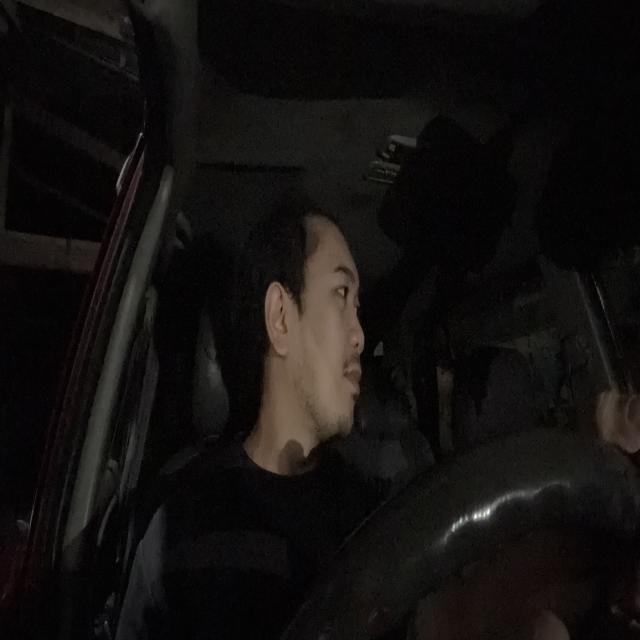open: (327, 264, 357, 317)
